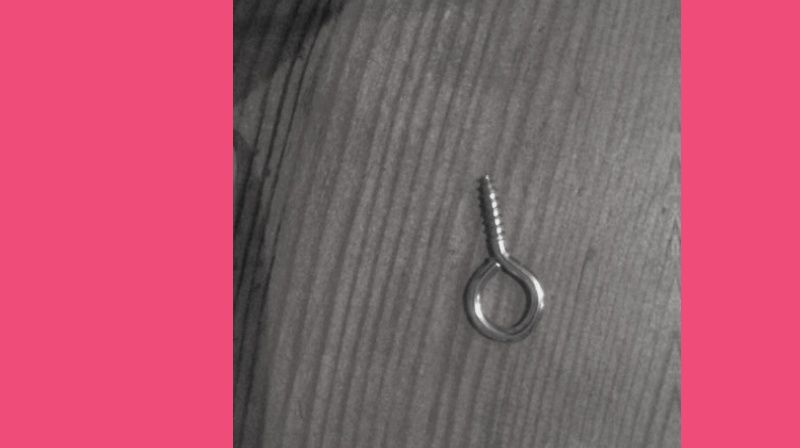O001: (460, 170, 547, 344)
